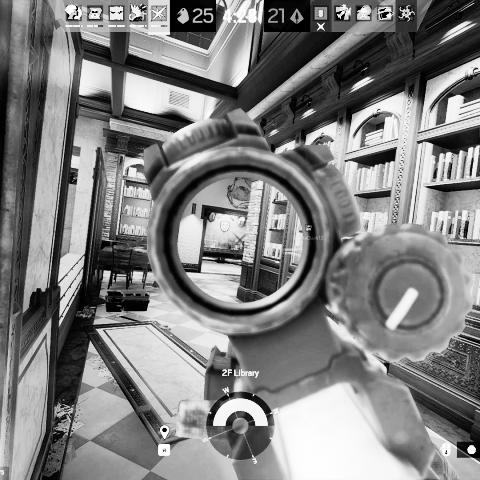Friend_label: (293, 223, 326, 241)
